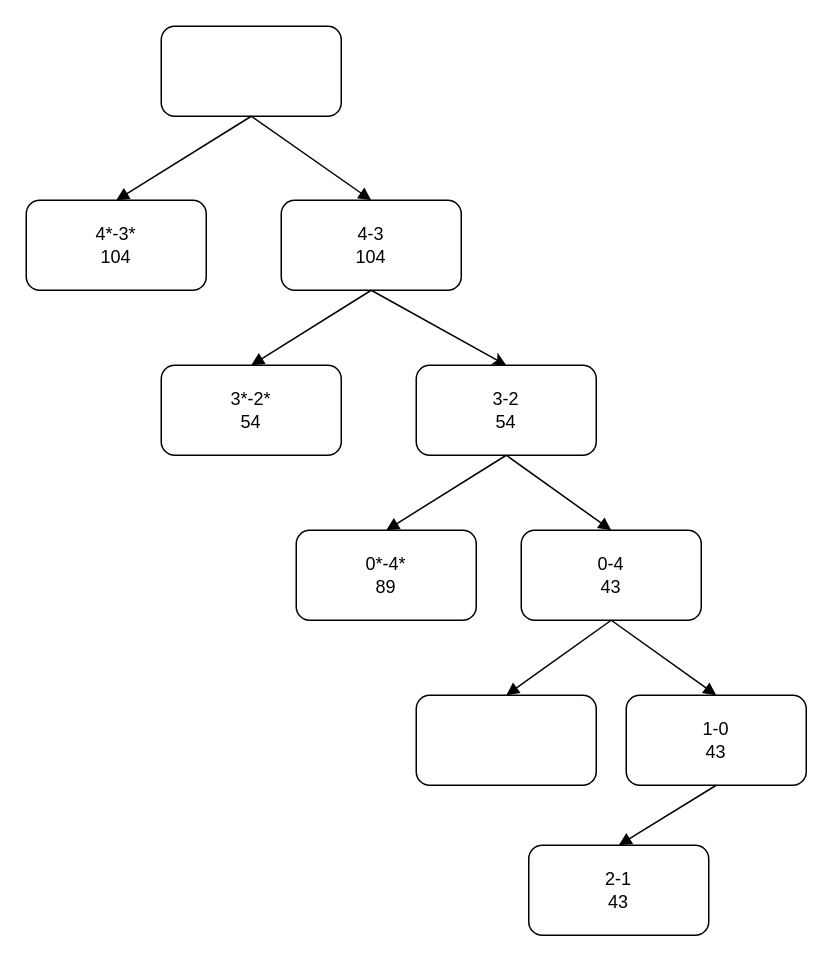
Some shapes in this 833 by 962 pixel diagram are drawn without their labels. The shapes that lost their labels are listed below. From the top down, each one's centre as x and y in pixels, then its label:
point 250,70: Корень дерева решения 42
point 505,739: 1*-0* INF
